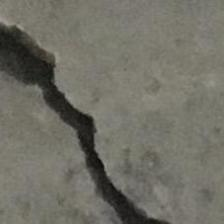Crack: (0, 1, 199, 224)
